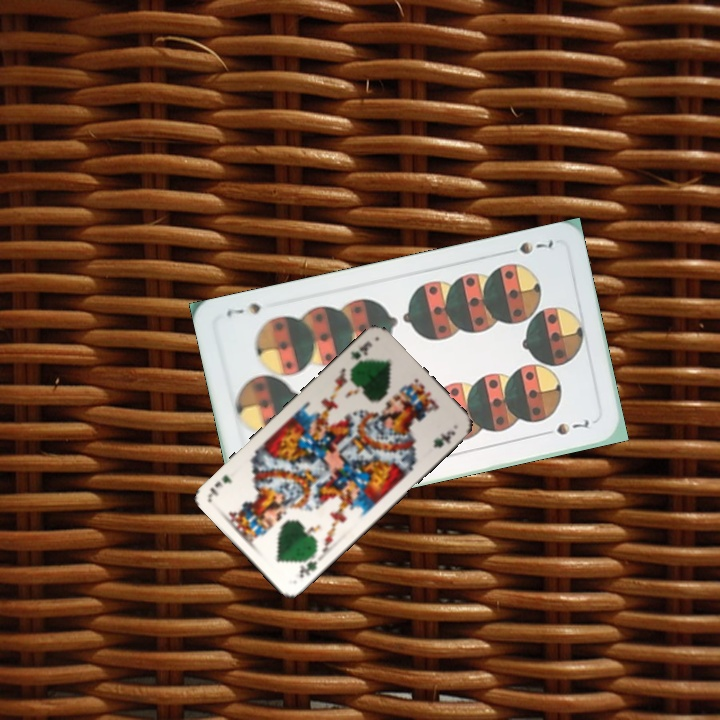GK: (295, 554, 323, 581), (347, 337, 375, 362)
S7: (500, 236, 557, 257)
